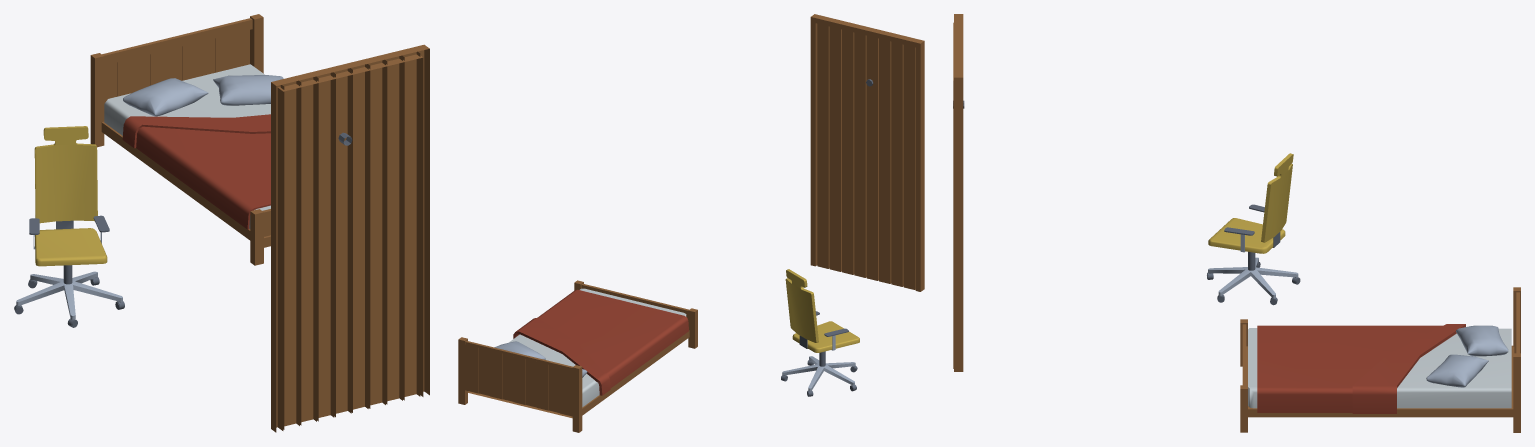
The model's file is props.fbx.
3 views of the same model, side by side, from view 1: azimuth 30°, elevation 25°; view 2: azimuth 150°, elevation 25°; view 3: azimuth 270°, elevation 25° (orthographic). The views are drawn at different scales.
Parts seen in each view (by area): view 1: door, bed, chair; view 2: door, bed, chair; view 3: bed, chair, door.
Part boxes in pixels (bbox=[...]): door: bbox=[271, 44, 429, 432]; bed: bbox=[90, 14, 283, 265]; chair: bbox=[14, 126, 124, 327]; door: bbox=[810, 14, 924, 291]; bed: bbox=[458, 280, 697, 432]; chair: bbox=[781, 269, 859, 396]; bed: bbox=[1240, 287, 1520, 432]; chair: bbox=[1207, 153, 1300, 305]; door: bbox=[953, 14, 964, 371].
Size of the model in its own units: 286 by 237 by 414.
